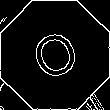O_SE: (25, 23, 85, 87)
